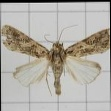Spodoptera litura: (0, 23, 110, 96)
